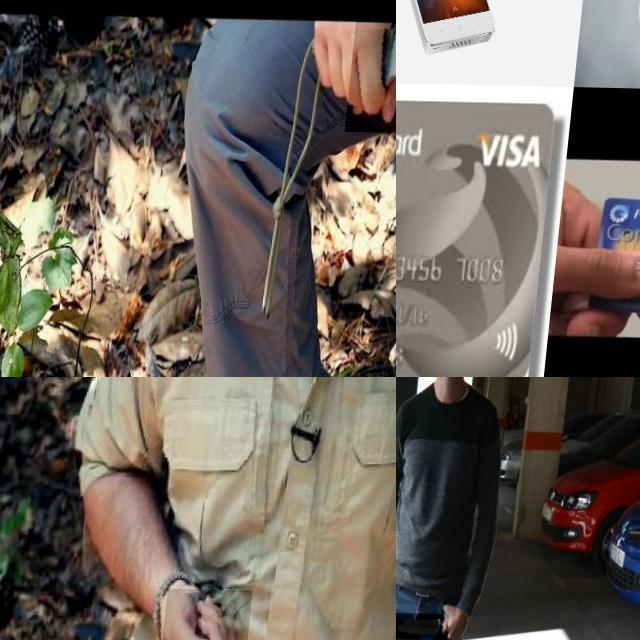-: (347, 15, 396, 133), (156, 587, 259, 640), (403, 612, 459, 639)
